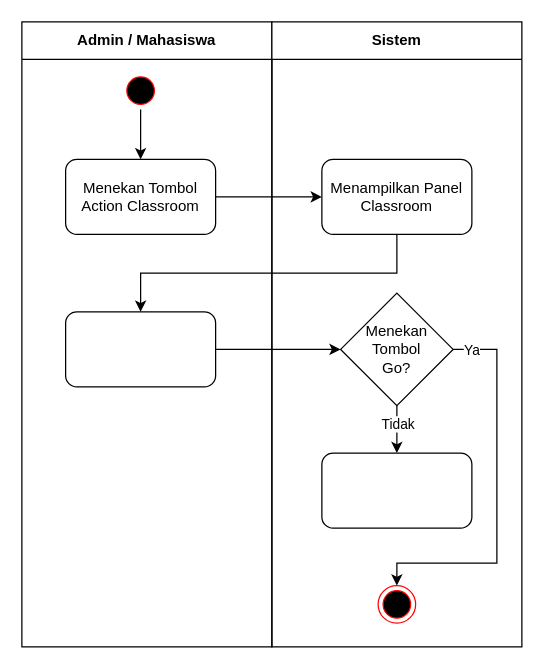
The diagram is 544 pixels wide and 669 high, and some of its shapes have lost their labels. The centre of each missing label's shape, as x and y in pixels:
"Memilih Tombol Yang Ingin Dipilih" goes at pixel 140 349.
"Menutup Panel Classroom" goes at pixel 396 490.
